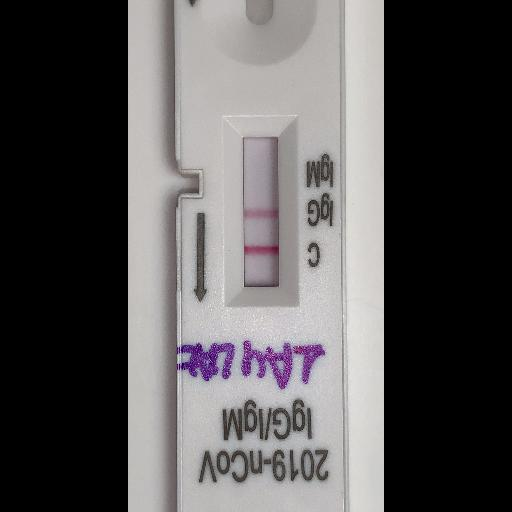Pos: (175, 0, 346, 511)
